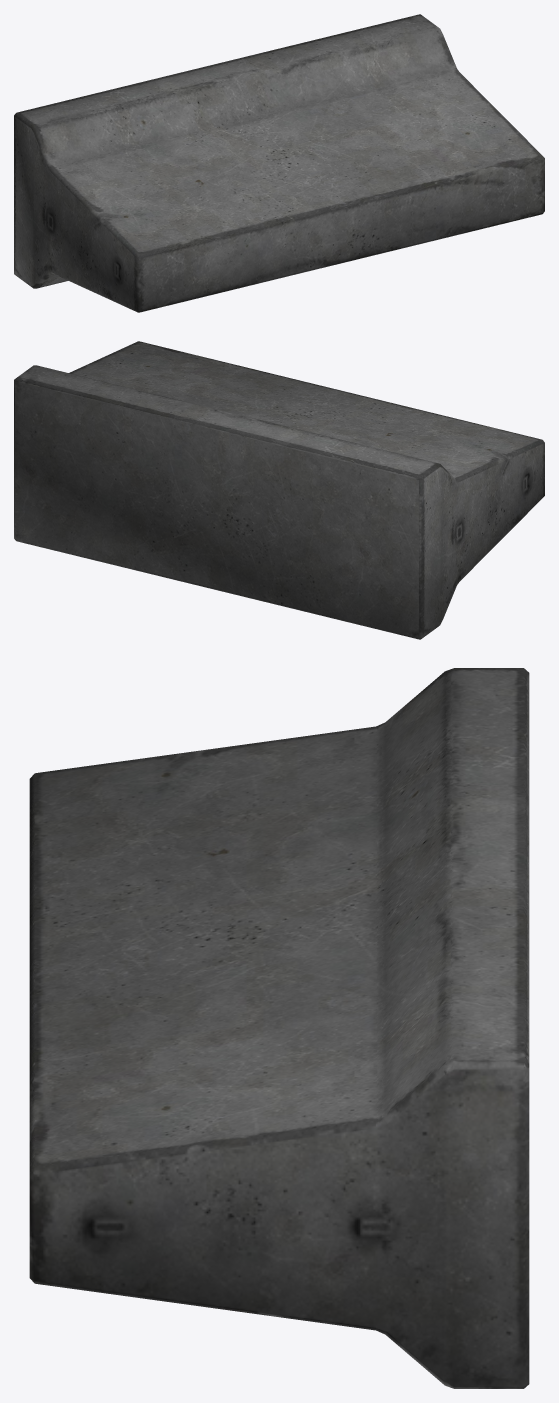
Rendered from Obstacle_A.obj.
3 views of the same model, one above another, from view 1: azimuth 30°, elevation 25°; view 2: azimuth 150°, elevation 25°; view 3: azimuth 270°, elevation 25° (orthographic). The views are drawn at different scales.
Visible parts, largest first — view 1: defaultMaterial.001; view 2: defaultMaterial.001; view 3: defaultMaterial.001.
Part boxes in pixels (box(x1,y1,x2,y2)): defaultMaterial.001: box(14, 14, 544, 312); defaultMaterial.001: box(14, 341, 544, 639); defaultMaterial.001: box(29, 668, 529, 1388).
Size of the model in its own units: 1.95 by 0.7438 by 1.03.
Materials: 1 (1 with a texture image).
